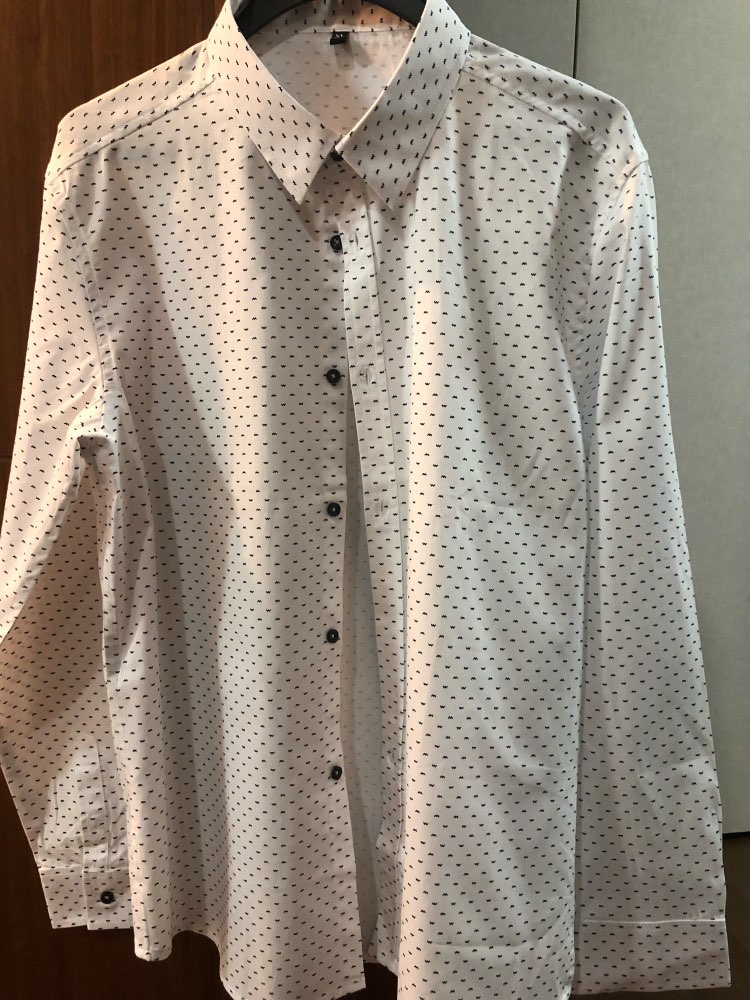shirts: (20, 12, 724, 994)
